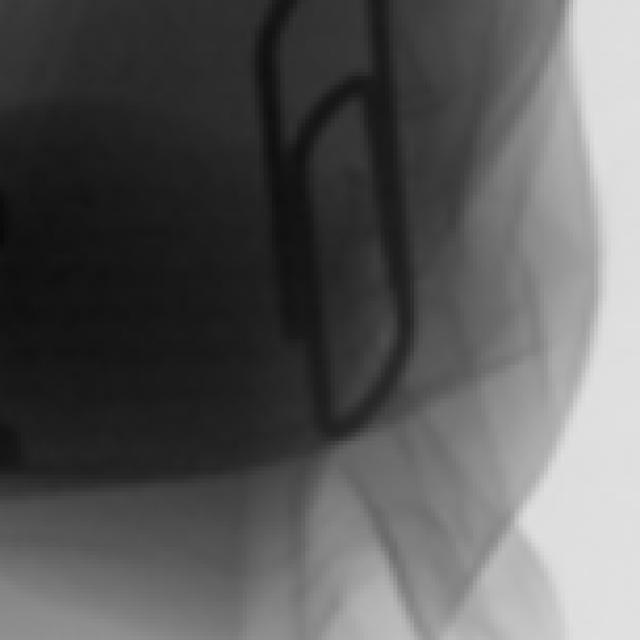BLADE: (313, 90, 395, 413)
